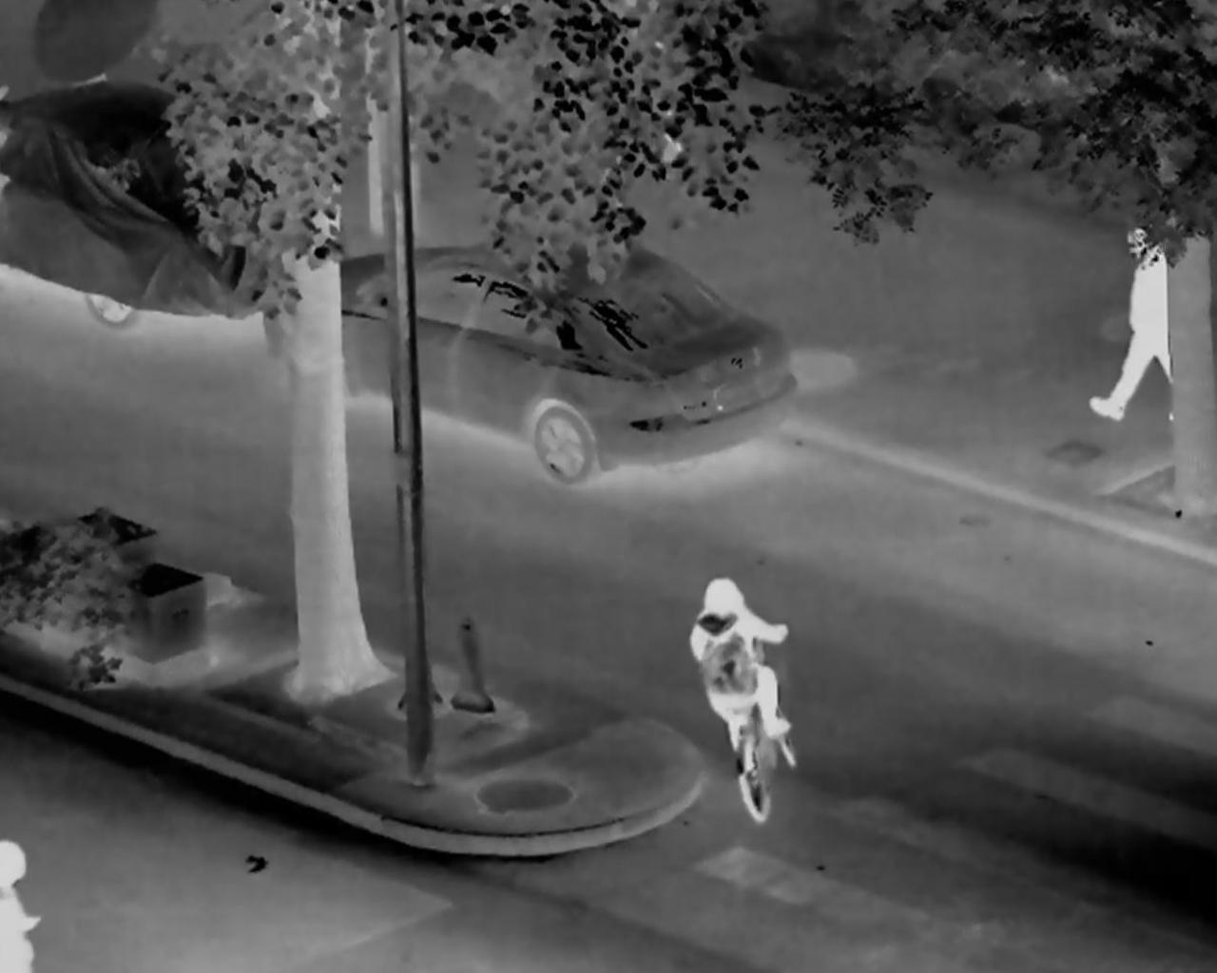person: (684, 578, 794, 763), (1091, 222, 1186, 426), (2, 836, 55, 973)
